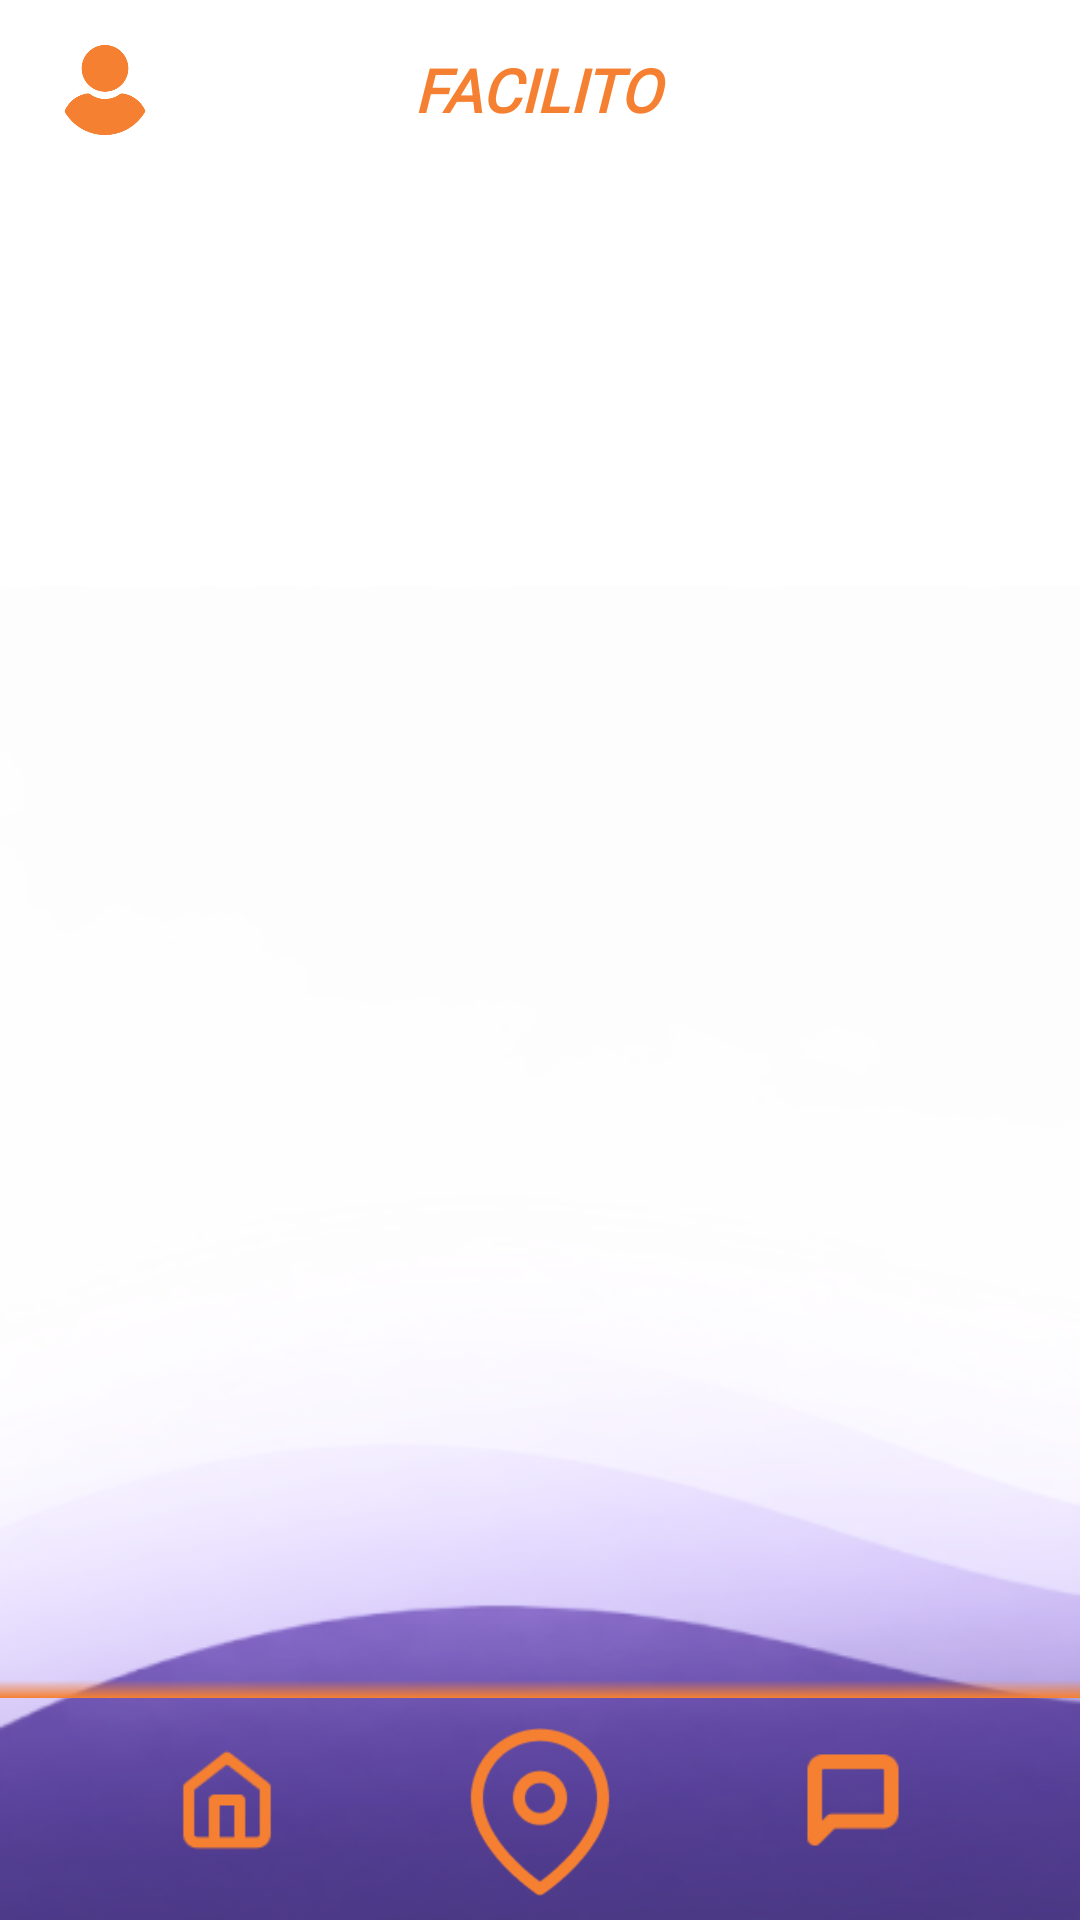

Icon bounding boxes for this 1080×1920 phone screenshot, format (x1, y1, x2, y2):
Usuario: (64, 45, 145, 135)
